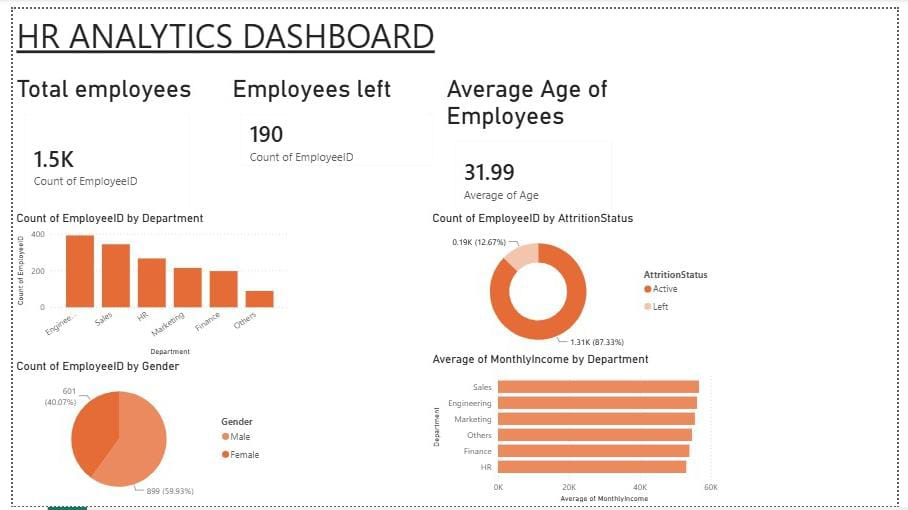

This screenshot's page, from the dashboard's own definition file:
{"tool":"powerbi","page":{"name":"Page 1","canvas":[1280,720],"ordinal":0},"visuals":[{"type":"cardVisual","title":"Total employees","fields":{"Data":["CountNonNull(RawData.EmployeeID)"]},"box":[0,95.7,273.8,220.1],"z":0},{"type":"cardVisual","title":"Average Age of Employees","fields":{"Data":["Avg(RawData.Age)"]},"box":[623.2,95.7,262,220.1],"z":1000},{"type":"textbox","box":[0,0,623.5,96.5],"z":2000},{"type":"cardVisual","title":"Employees left","fields":{"Data":["CountNonNull(RawData.EmployeeID)"]},"box":[312.4,95.7,312.4,149.5],"z":3000},{"type":"clusteredColumnChart","fields":{"Category":["RawData.Department"],"Y":["CountNonNull(RawData.EmployeeID)"]},"box":[0,292.3,404.6,214.6],"z":4000},{"type":"donutChart","fields":{"Y":["CountNonNull(RawData.EmployeeID)"],"Category":["RawData.AttritionStatus"]},"box":[603.4,292.3,423.4,214.6],"z":5000},{"type":"pieChart","fields":{"Category":["RawData.Gender"],"Y":["CountNonNull(RawData.EmployeeID)"]},"box":[0,506.9,373,213.1],"z":6000},{"type":"clusteredBarChart","fields":{"Category":["RawData.Department"],"Y":["Avg(RawData.MonthlyIncome)"]},"box":[603.4,496.8,423.4,223.2],"z":7000}]}

Visuals, with their boxes in screenshot pixels (x1, y1, x2, y2), scaled from the page's 1280x720 canvas onto the 908x510 screenshot:
"Total employees" cardVisual: 0,68,194,224
"Average Age of Employees" cardVisual: 442,68,628,224
textbox: 0,0,442,68
"Employees left" cardVisual: 222,68,443,174
clusteredColumnChart - RawData.Department x CountNonNull(RawData.EmployeeID): 0,207,287,359
donutChart - CountNonNull(RawData.EmployeeID) x RawData.AttritionStatus: 428,207,728,359
pieChart - RawData.Gender x CountNonNull(RawData.EmployeeID): 0,359,265,509
clusteredBarChart - RawData.Department x Avg(RawData.MonthlyIncome): 428,352,728,509
